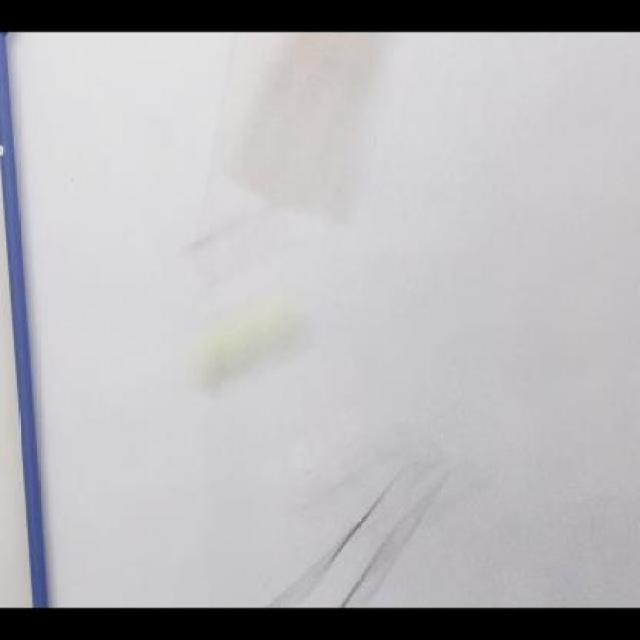baseball: (184, 289, 314, 397)
